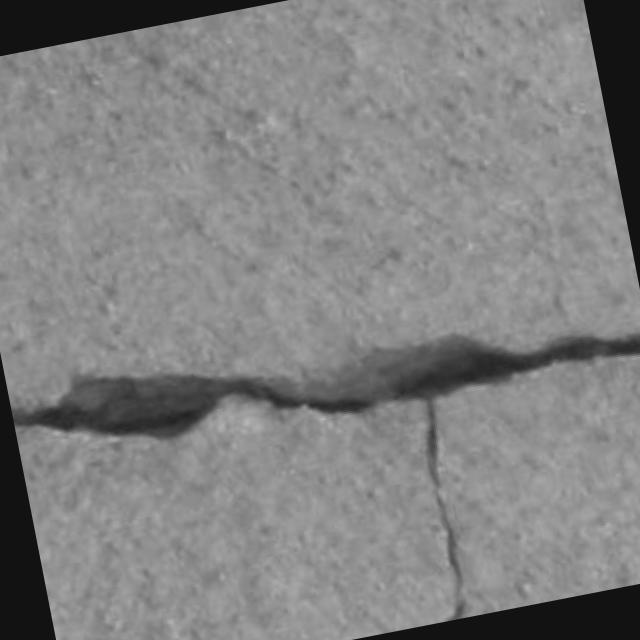crack: (12, 333, 639, 439), (425, 399, 467, 620)
